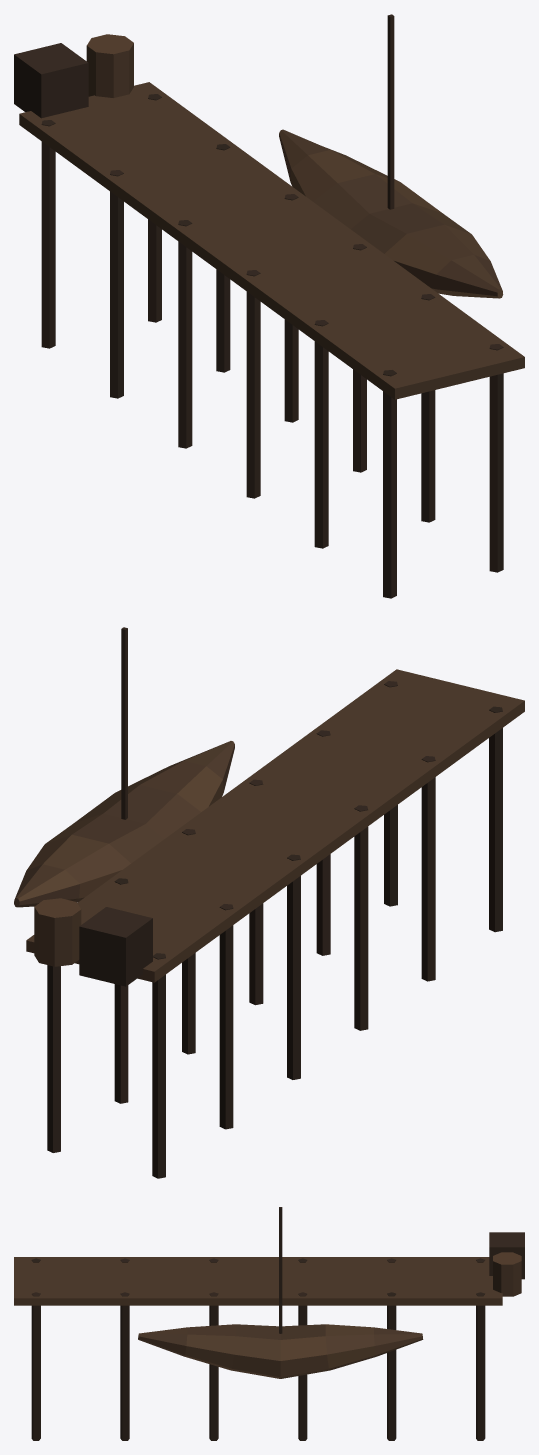
The model's file is yard_dock.glb.
3 renders of one model, top to bottom at view 1: azimuth 30°, elevation 25°; view 2: azimuth 150°, elevation 25°; view 3: azimuth 270°, elevation 25°, orthographic. The views are drawn at different scales.
Visible parts, largest first — view 1: yard_dock; view 2: yard_dock; view 3: yard_dock.
Boxes of the visible parts, x1=… form: yard_dock: x1=14, y1=14, x2=524, y2=598; yard_dock: x1=14, y1=627, x2=524, y2=1178; yard_dock: x1=14, y1=1207, x2=524, y2=1440.
Bounding box in the file's own units: 4.28 × 6.4 × 11.5.
1 material, 1 textured.
